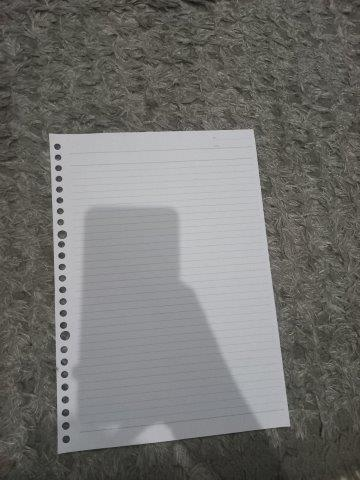kertas: (50, 128, 291, 454)
